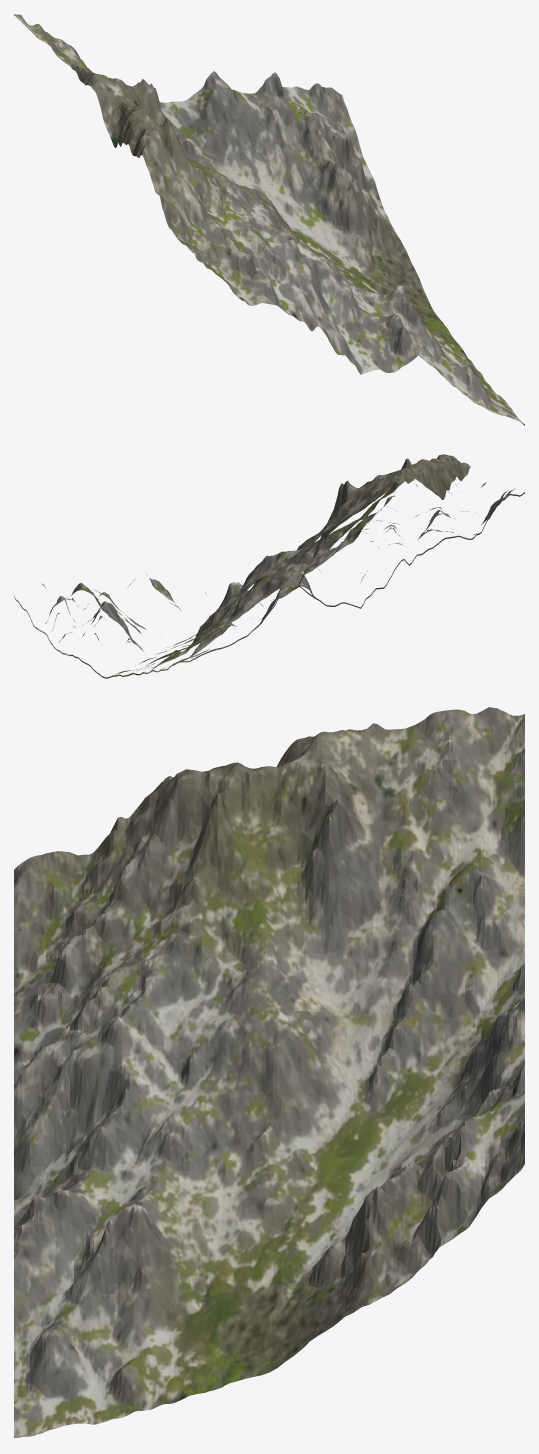
The picture shows the model from 3 angles, top to bottom: view 1: azimuth 30°, elevation 25°; view 2: azimuth 150°, elevation 25°; view 3: azimuth 270°, elevation 25°; orthographic projection. The views are drawn at different scales.
Bounding box in the file's own units: 250 × 264 × 241.
1 material, 1 textured.
